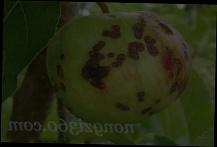rotten apple: (41, 6, 200, 124)
